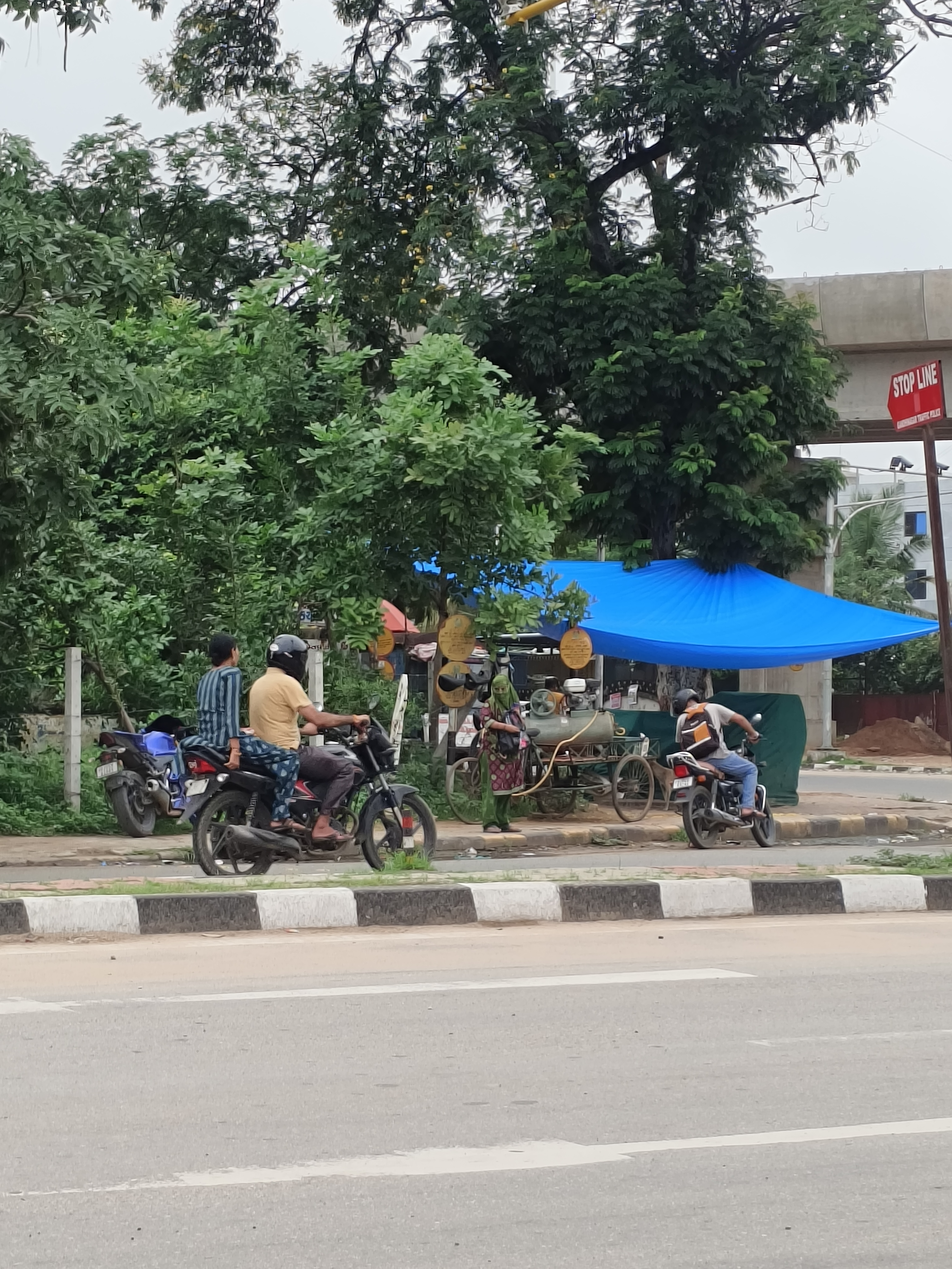BikeWithRider: (173, 626, 446, 884), (659, 681, 783, 855)
Helmet: (261, 628, 314, 685), (668, 685, 706, 718)
NoHelmet: (201, 626, 243, 674)
